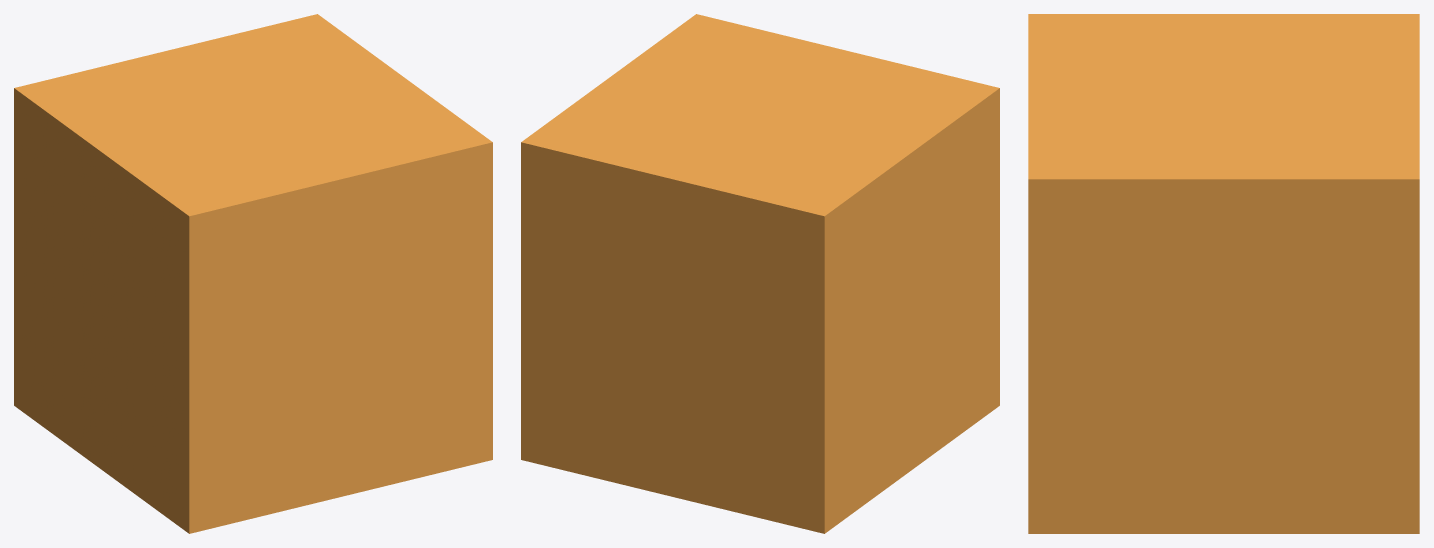
File: LanderBody.obj
3 views of the same model, side by side, from view 1: azimuth 30°, elevation 25°; view 2: azimuth 150°, elevation 25°; view 3: azimuth 270°, elevation 25° (orthographic). The views are drawn at different scales.
Parts seen in each view (by area): view 1: Cube2; view 2: Cube2; view 3: Cube2.
Part boxes in pixels (bbox=[...]): Cube2: bbox=[14, 14, 492, 533]; Cube2: bbox=[521, 14, 999, 533]; Cube2: bbox=[1028, 14, 1419, 533].
Size of the model in its own units: 2 by 2 by 2.
